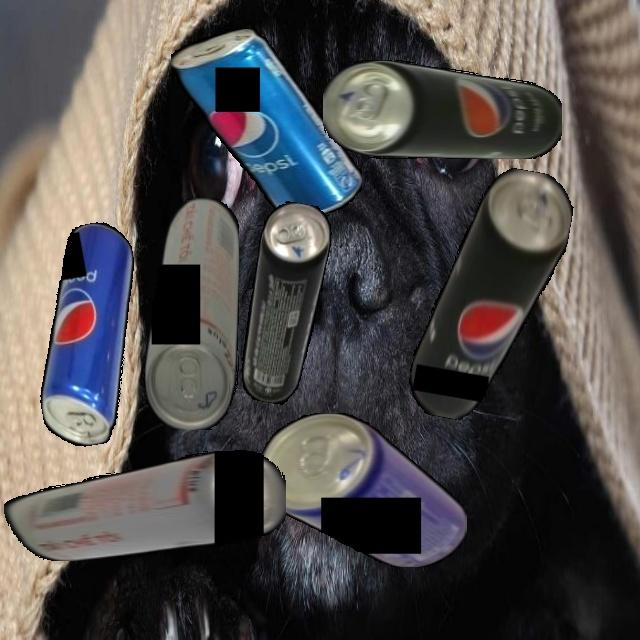debris: (404, 157, 578, 433), (170, 29, 362, 217), (12, 218, 164, 452), (259, 412, 467, 567), (3, 450, 286, 561), (323, 59, 562, 159), (144, 197, 239, 430), (233, 198, 336, 408)
